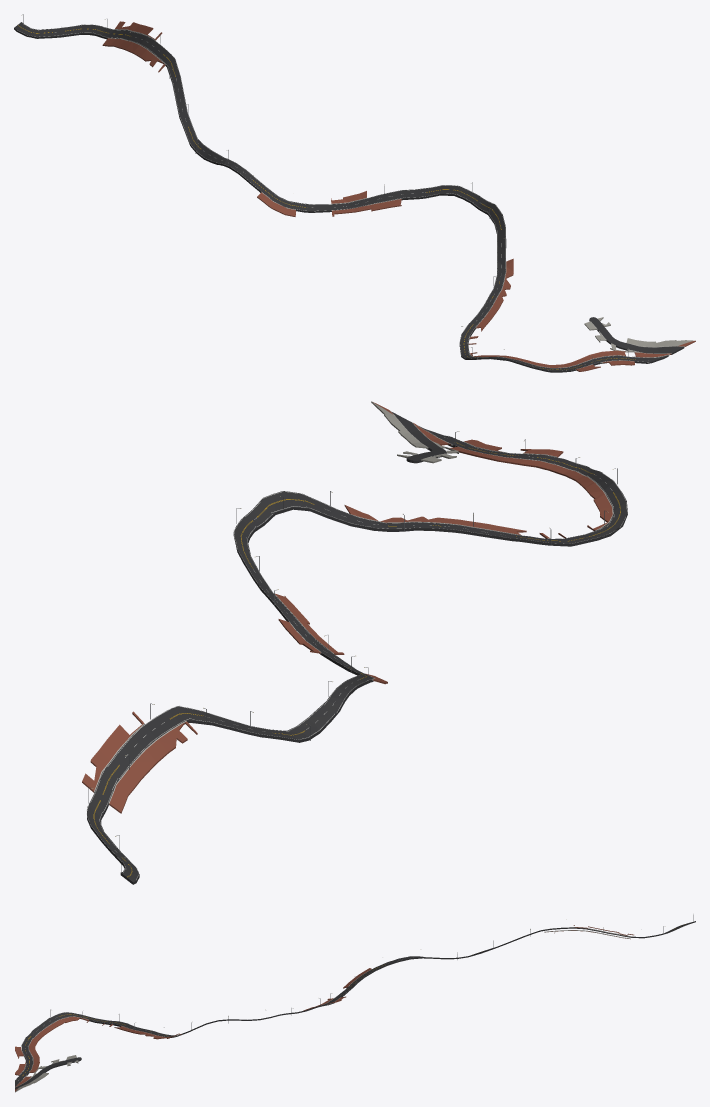
The picture shows the model from 3 angles, top to bottom: view 1: azimuth 30°, elevation 25°; view 2: azimuth 150°, elevation 25°; view 3: azimuth 270°, elevation 25°; orthographic projection. The views are drawn at different scales.
Size of the model in its own units: 219 by 95.08 by 584.
